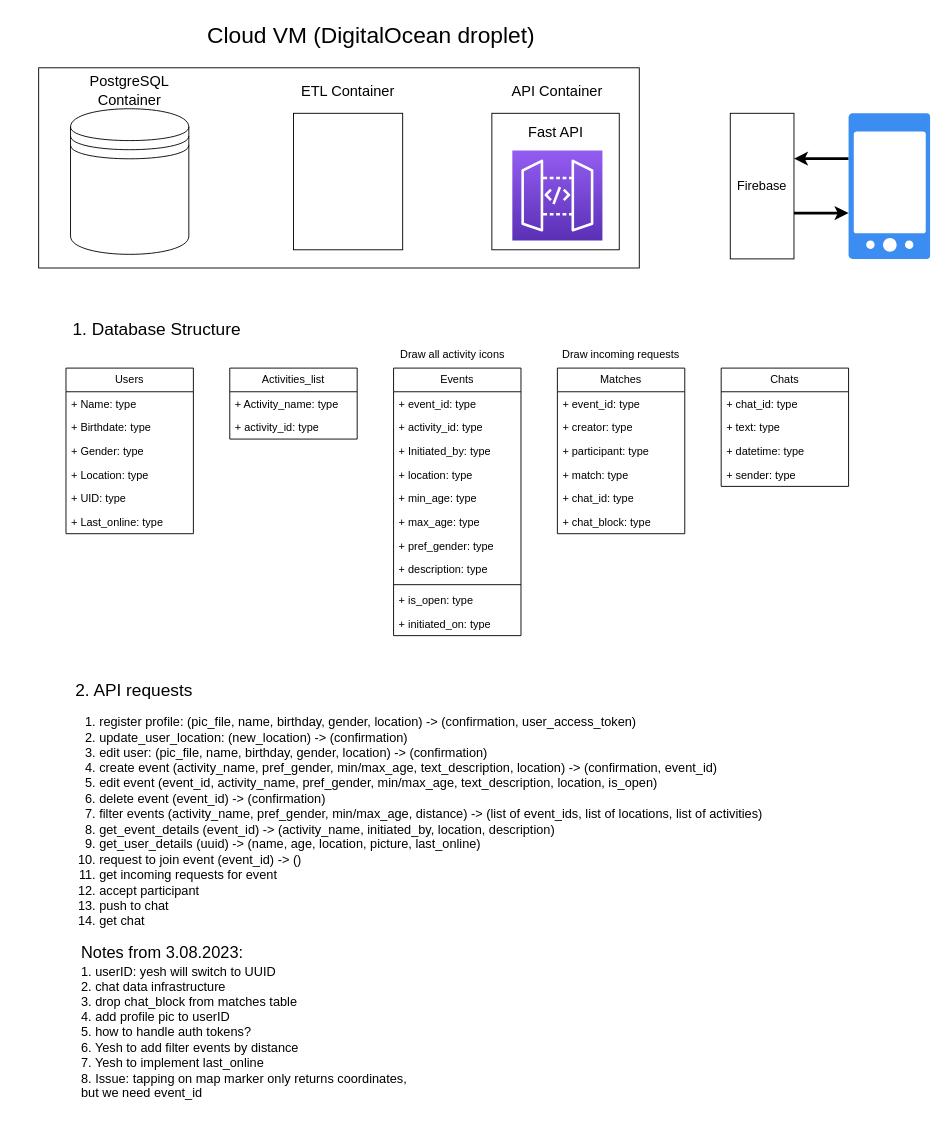
Some shapes in this 945 by 1136 pixel diagram are drawn without their labels. The shapes that lost their labels are listed below. From the top down, each one's centre as x and y in pixels, then its label:
the point at 129,181: SQL Tables: - users; - activities; - ???
the point at 348,181: ETL Python pipeline
the point at 889,185: Local client
